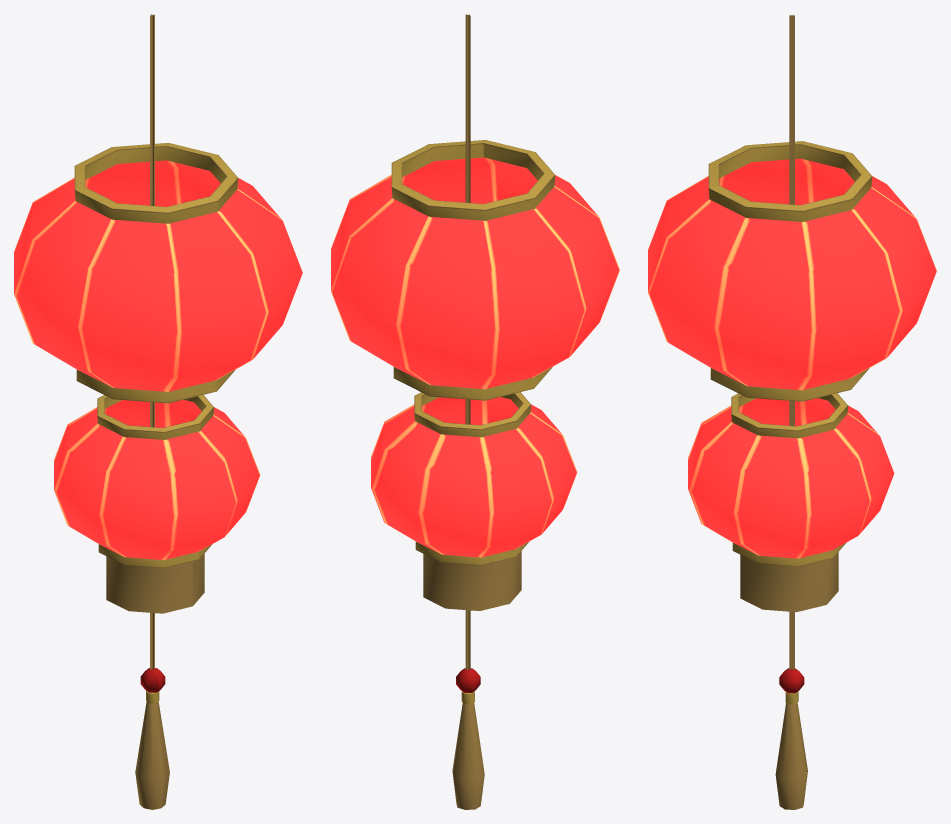
The model's file is lantern02.fbx.
3 views of the same model, side by side, from view 1: azimuth 30°, elevation 25°; view 2: azimuth 150°, elevation 25°; view 3: azimuth 270°, elevation 25° (orthographic).
Visible parts, largest first — view 1: lantern02; view 2: lantern02; view 3: lantern02.
Boxes of the visible parts, x1,y1,x2,y2 form: lantern02: (14, 14, 302, 809); lantern02: (331, 14, 619, 809); lantern02: (648, 15, 936, 809).
Bounding box in the file's own units: 67.33 × 200 × 66.31.
1 material, 1 textured.
